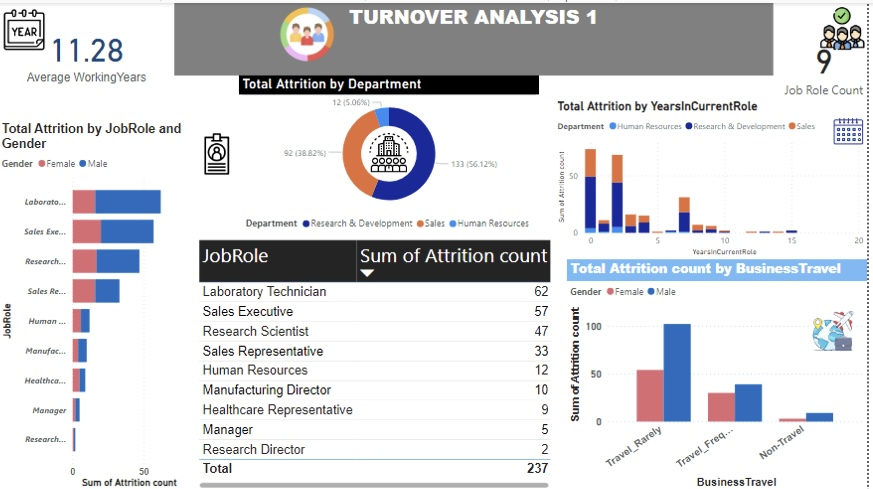

Layout of this report page (visuals, bound fields, positions):
{"tool":"powerbi","page":{"name":"Page 2","canvas":[1280,720],"ordinal":1},"visuals":[{"type":"barChart","title":"Total Attrition by JobRole and Gender","fields":{"Y":["Sum(HR-Employee-Attrition.Attrition count)"],"Series":["HR-Employee-Attrition.Gender"],"Category":["HR-Employee-Attrition.JobRole"]},"box":[0,174.1,289.8,545.9],"z":0},{"type":"textbox","title":"TURNOVER ANALYSIS 1","box":[259,0,882.4,106.8],"z":1},{"type":"clusteredColumnChart","title":"Total Attrition count by BusinessTravel ","fields":{"Category":["HR-Employee-Attrition.BusinessTravel"],"Y":["Sum(HR-Employee-Attrition.Attrition count)"],"Series":["HR-Employee-Attrition.Gender"]},"box":[837.1,377.6,443.4,342.4],"z":2},{"type":"donutChart","title":"Total Attrition by Department","fields":{"Category":["HR-Employee-Attrition.Department"],"Y":["Sum(HR-Employee-Attrition.Attrition count)"]},"box":[354.1,106.8,442,237.1],"z":3},{"type":"columnChart","title":"Total Attrition by YearsInCurrentRole","fields":{"Category":["HR-Employee-Attrition.YearsInCurrentRole"],"Y":["Sum(HR-Employee-Attrition.Attrition count)"],"Series":["HR-Employee-Attrition.Department"]},"box":[818,140.5,462.4,237.1],"z":4},{"type":"tableEx","fields":{"Values":["HR-Employee-Attrition.JobRole","Sum(HR-Employee-Attrition.Attrition count)"]},"box":[289.8,343.9,528.3,376.1],"z":5},{"type":"card","fields":{"Values":["Avg(HR-Employee-Attrition.TotalWorkingYears)"]},"box":[0,0,259,150],"z":6},{"type":"card","fields":{"Values":["Count(HR-Employee-Attrition.JobRole)"]},"box":[1150.2,32.2,130.2,118.5],"z":7},{"type":"image","box":[0,4.4,74.6,70.2],"z":8},{"type":"image","box":[380.5,0,147.8,92.2],"z":9},{"type":"image","box":[259,185.9,124.4,73.2],"z":10},{"type":"image","box":[519.5,185.9,111.2,68.8],"z":11},{"type":"image","box":[1178,447.8,102.4,70.2],"z":12},{"type":"image","box":[1222,152.2,58.5,70.2],"z":13},{"type":"image","box":[1204.4,0,76.1,74.6],"z":14}]}

Visuals, with their boxes in screenshot pixels (x1, y1, x2, y2), scaled from the page's 1280x720 canvas onto the 873x489 screenshot:
"Total Attrition by JobRole and Gender" barChart: 0:118:198:488
"TURNOVER ANALYSIS 1" textbox: 177:0:778:73
"Total Attrition count by BusinessTravel " clusteredColumnChart: 571:256:872:488
"Total Attrition by Department" donutChart: 242:73:543:234
"Total Attrition by YearsInCurrentRole" columnChart: 558:95:872:256
tableEx - HR-Employee-Attrition.JobRole x Sum(HR-Employee-Attrition.Attrition count): 198:234:558:488
card - Avg(HR-Employee-Attrition.TotalWorkingYears): 0:0:177:102
card - Count(HR-Employee-Attrition.JobRole): 784:22:872:102
image: 0:3:51:51
image: 260:0:360:63
image: 177:126:261:176
image: 354:126:430:173
image: 803:304:872:352
image: 833:103:872:151
image: 821:0:872:51
